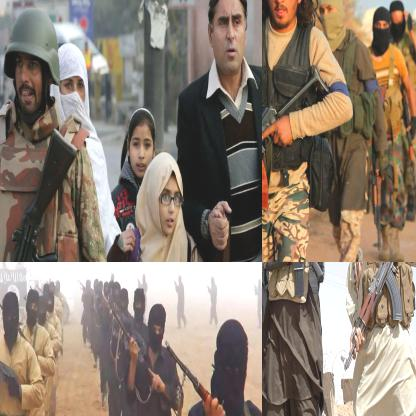rifle: (262, 63, 330, 258), (0, 126, 81, 261), (341, 262, 415, 371), (161, 341, 261, 415), (108, 304, 169, 413), (262, 262, 343, 301), (370, 153, 397, 255), (0, 336, 21, 399)
